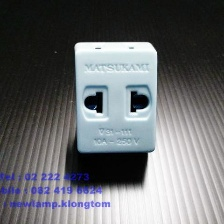three_eye_plug: (68, 36, 160, 157)
